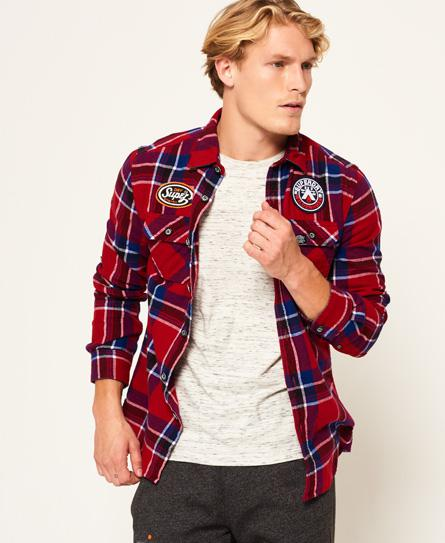teeshirt: (81, 106, 395, 503)
